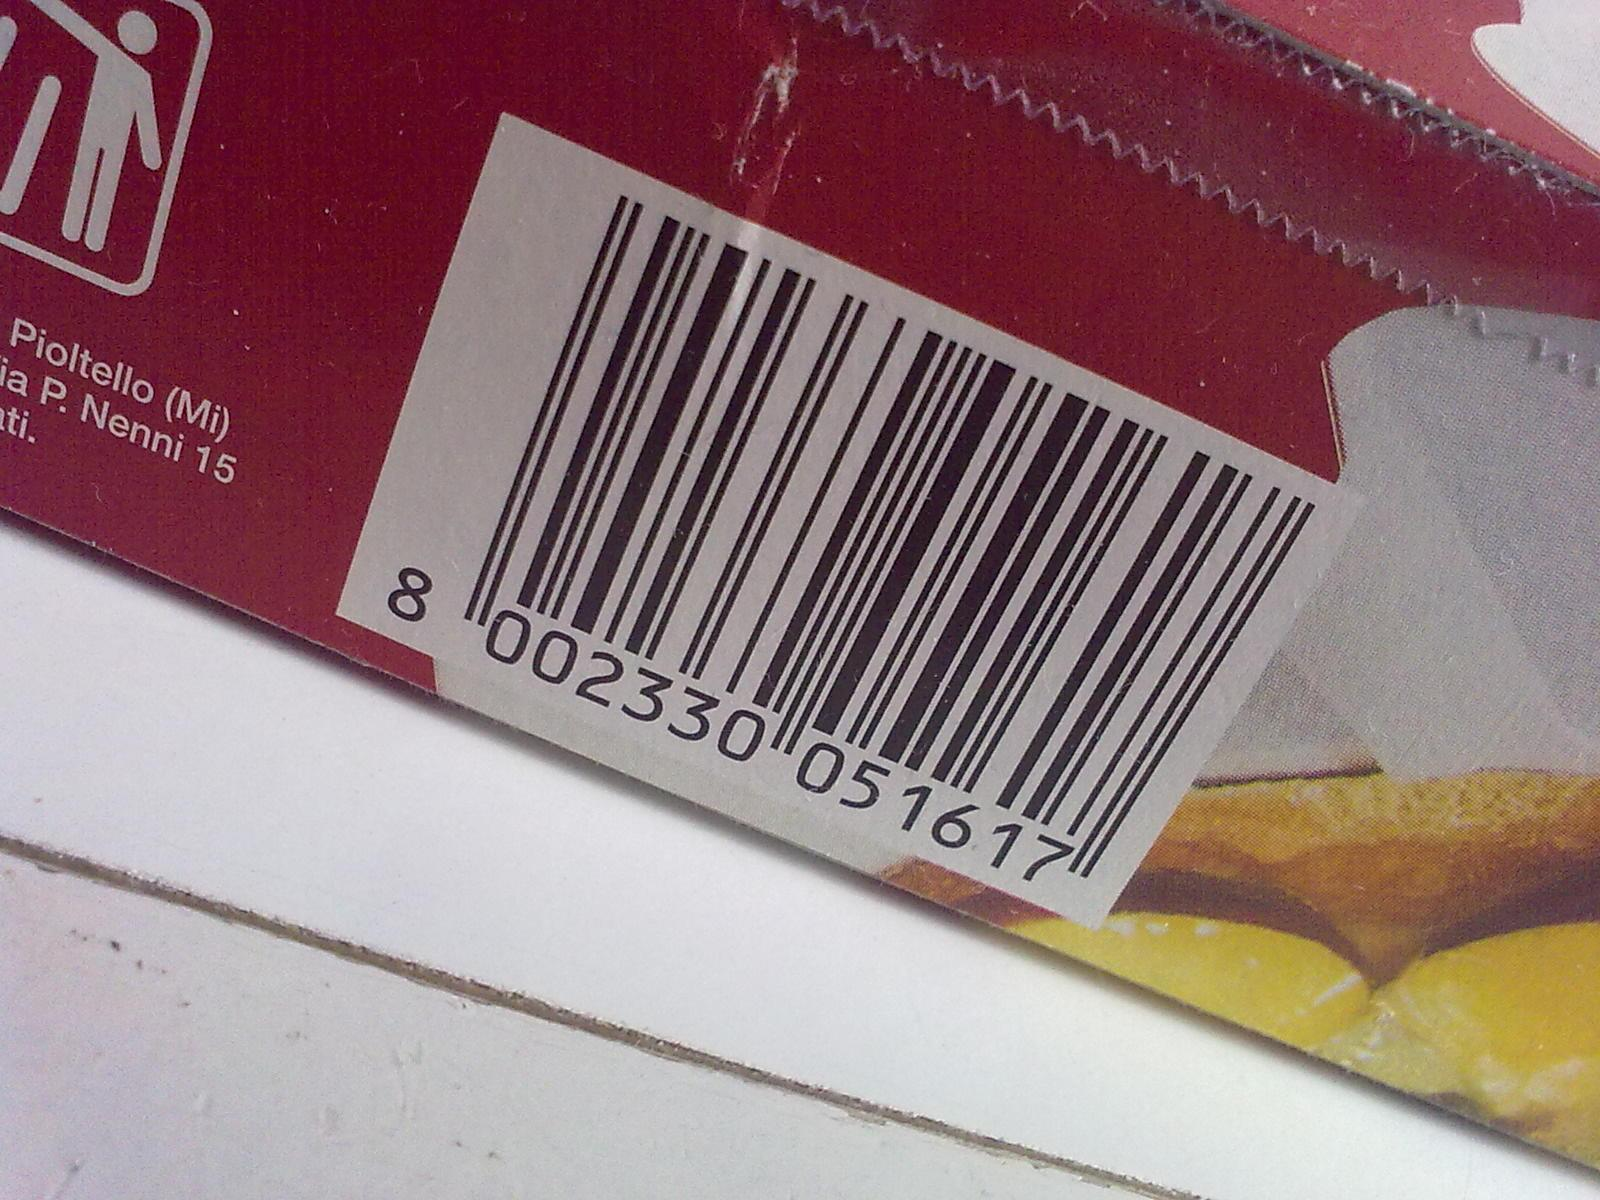barcode: (334, 113, 1366, 933)
